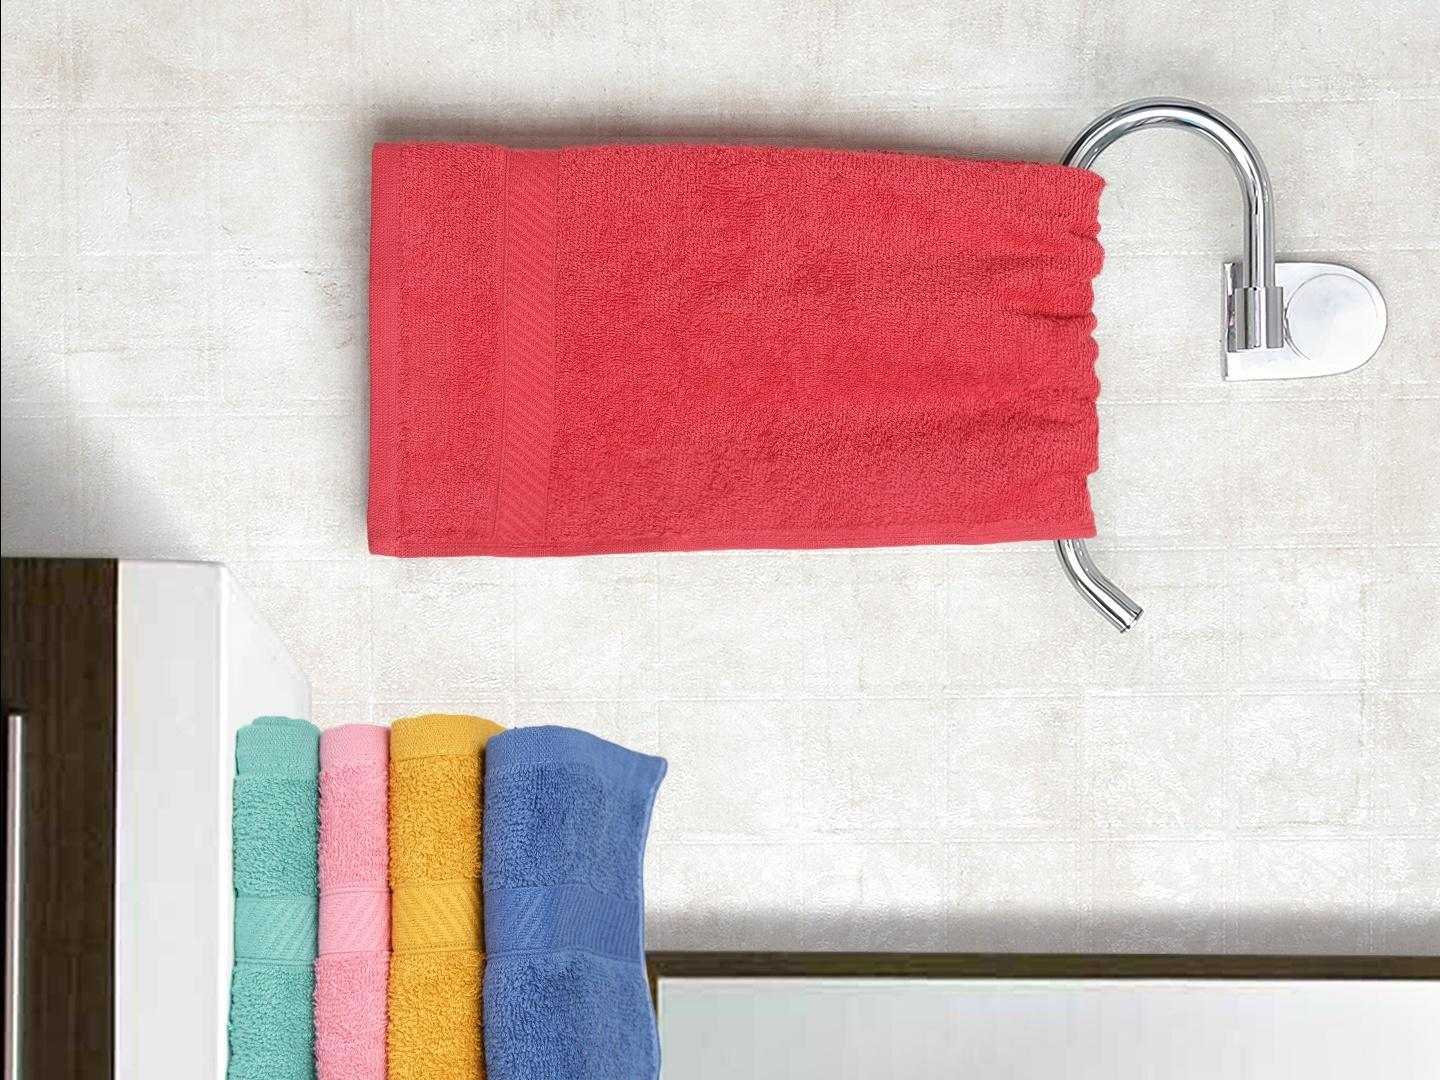towel: (320, 100, 1143, 600)
